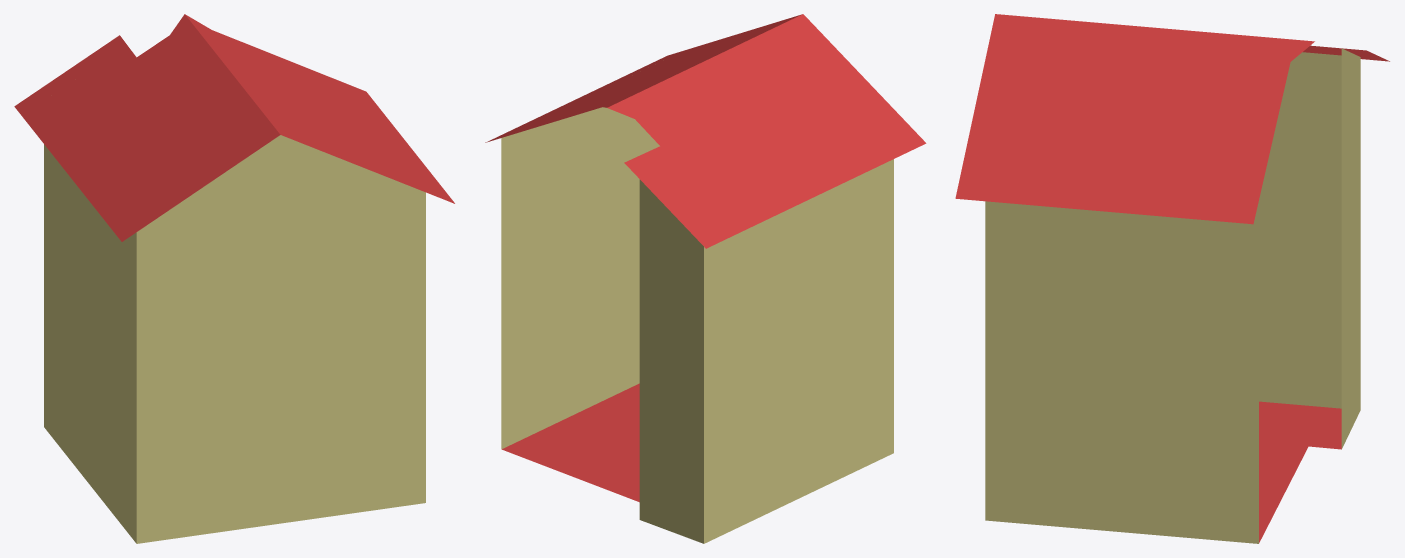
The picture shows the model from 3 angles, left to right: view 1: azimuth 30°, elevation 25°; view 2: azimuth 150°, elevation 25°; view 3: azimuth 270°, elevation 25°; orthographic projection. The views are drawn at different scales.
Bounding box in the file's own units: 8.54 × 8.56 × 9.38.
